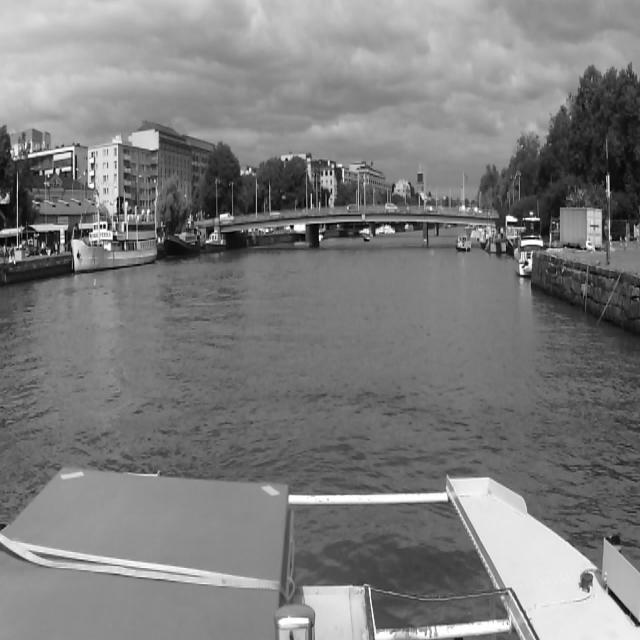ship: (70, 200, 162, 272), (511, 209, 551, 283), (162, 215, 202, 263), (205, 228, 227, 255), (454, 232, 474, 255), (363, 235, 371, 242)
